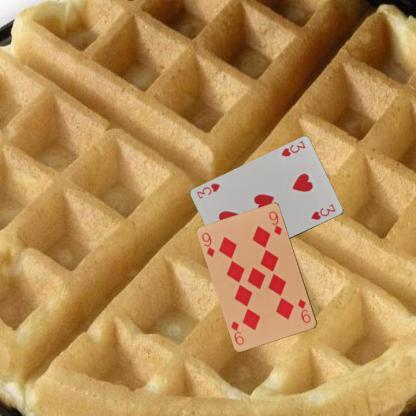3h: (278, 138, 307, 158)
9d: (199, 230, 217, 258), (295, 296, 312, 325)
